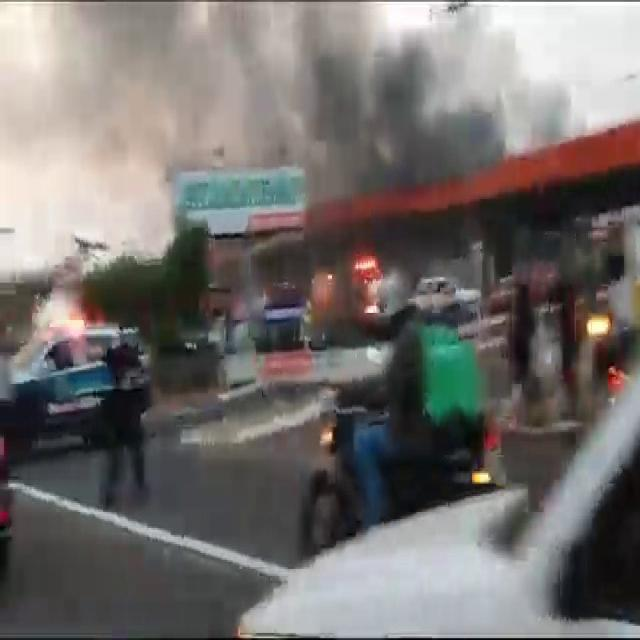Fire: (353, 254, 378, 272)
Smoke: (368, 20, 429, 126), (516, 76, 576, 140), (360, 142, 390, 189)
